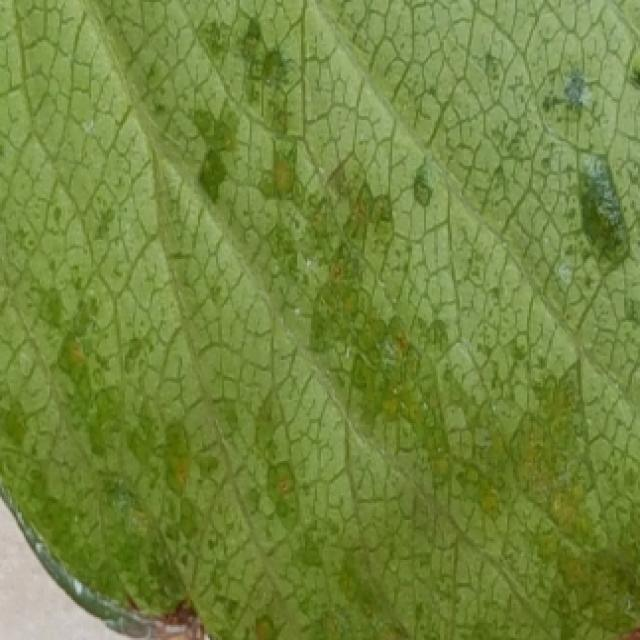Angular Leafspot: (0, 0, 640, 640)
